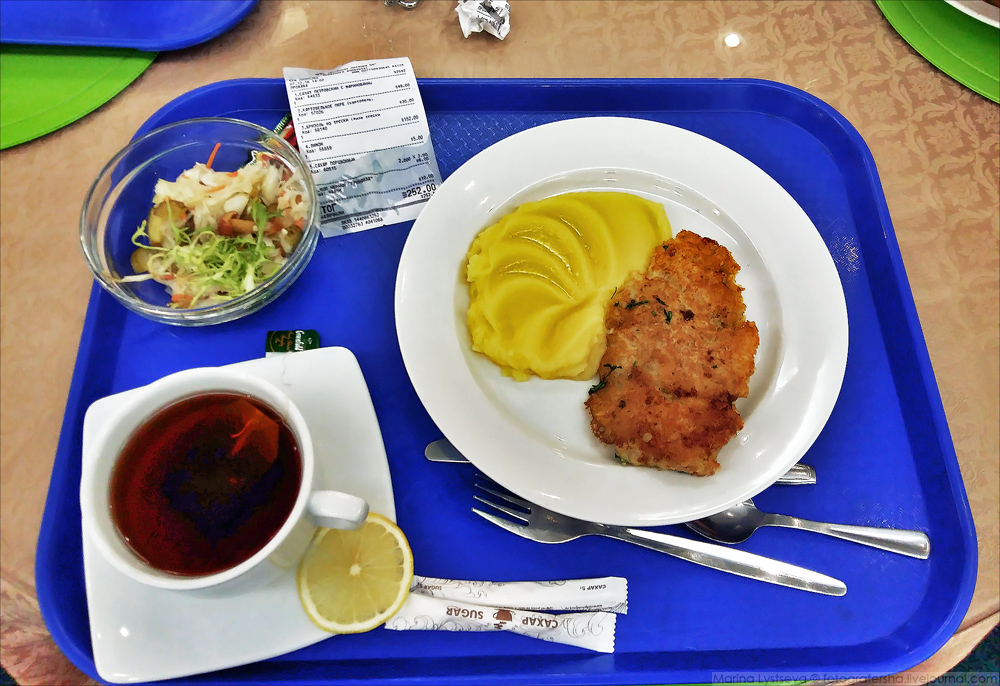bowl: (77, 118, 318, 327)
cutlery: (421, 490, 930, 598)
drink: (81, 367, 323, 604)
other: (284, 72, 443, 236), (390, 576, 643, 649)
plate: (395, 116, 848, 526)
